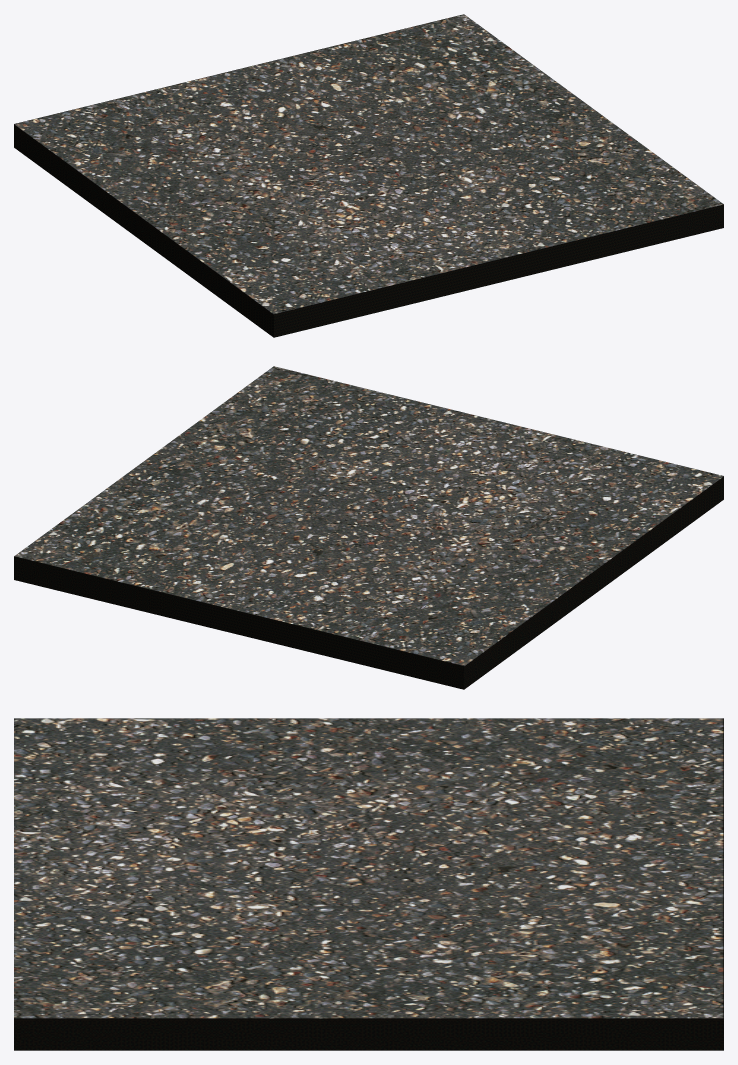
Rendered from street_groundOBJ.fbx.
The picture shows the model from 3 angles, top to bottom: view 1: azimuth 30°, elevation 25°; view 2: azimuth 150°, elevation 25°; view 3: azimuth 270°, elevation 25°; orthographic projection. The views are drawn at different scales.
Parts seen in each view (by area): view 1: ground; view 2: ground; view 3: ground.
Boxes of the visible parts, left/top/right/bottom form: ground: left=14, top=14, right=723, bottom=337; ground: left=14, top=366, right=723, bottom=689; ground: left=14, top=718, right=723, bottom=1050.
Bounding box in the file's own units: 10 × 0.5 × 10.
